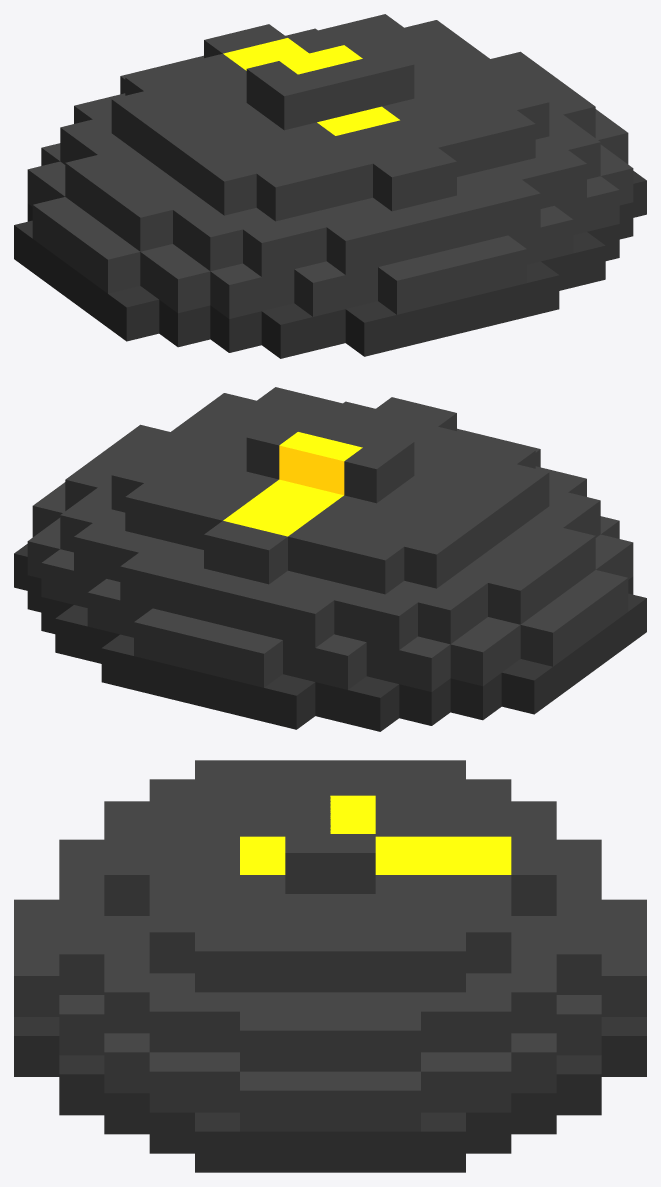
File: item_STONE_AGGRESSION.glb
3 renders of one model, top to bottom at view 1: azimuth 30°, elevation 25°; view 2: azimuth 150°, elevation 25°; view 3: azimuth 270°, elevation 25°, orthographic. The views are drawn at different scales.
Visible parts, largest first — view 1: item_STONE_AGGRESSION; view 2: item_STONE_AGGRESSION; view 3: item_STONE_AGGRESSION.
Part boxes in pixels (bbox=[...]): item_STONE_AGGRESSION: bbox=[14, 14, 646, 358]; item_STONE_AGGRESSION: bbox=[14, 387, 646, 731]; item_STONE_AGGRESSION: bbox=[14, 760, 646, 1172].
Size of the model in its own units: 0.3636 by 0.1136 by 0.3182.
1 material, 1 textured.
